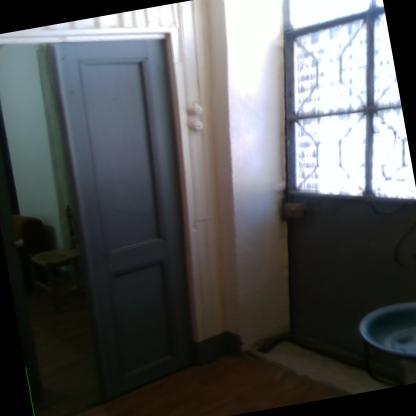semi: (0, 6, 236, 415)
